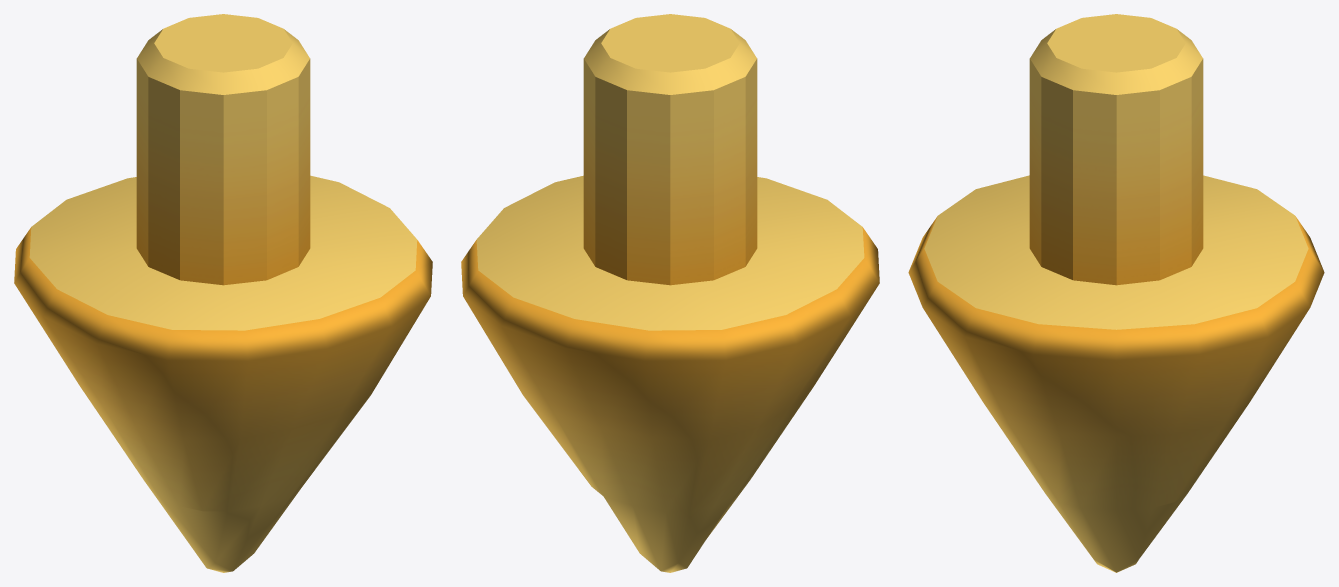
Rendered from mesh_arrow.fbx.
3 views of the same model, side by side, from view 1: azimuth 30°, elevation 25°; view 2: azimuth 150°, elevation 25°; view 3: azimuth 270°, elevation 25° (orthographic).
Parts seen in each view (by area): view 1: mesh_arrow; view 2: mesh_arrow; view 3: mesh_arrow.
Boxes of the visible parts, x1,y1,x2,y2 form: mesh_arrow: [14, 14, 432, 572]; mesh_arrow: [461, 14, 879, 572]; mesh_arrow: [908, 14, 1324, 572].
Bounding box in the file's own units: 0.9954 × 1.4 × 0.9954.
1 material, 1 textured.
